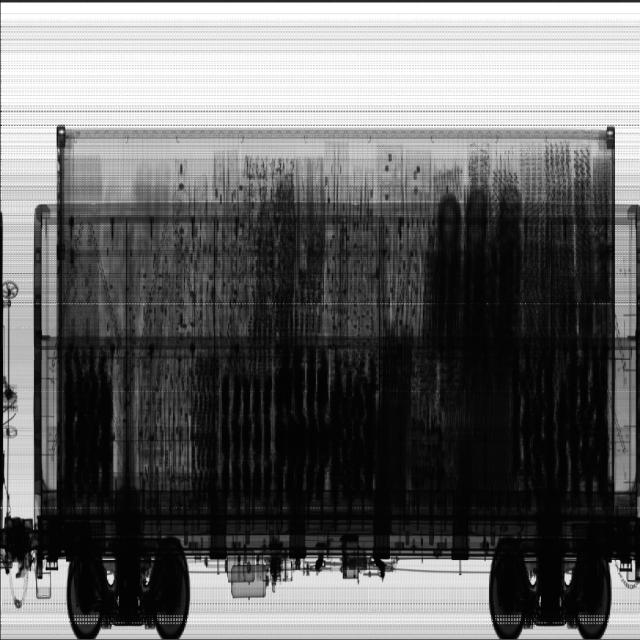auto parts: (520, 349, 612, 512), (63, 349, 116, 498), (191, 353, 222, 495)
office supplies: (244, 159, 327, 368)
